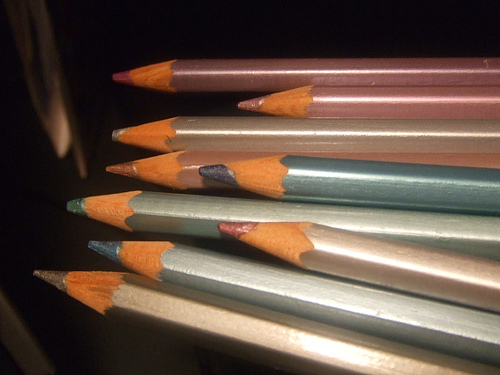pen_tip: (20, 263, 160, 322), (197, 149, 335, 208), (215, 212, 348, 272), (51, 184, 189, 235)
